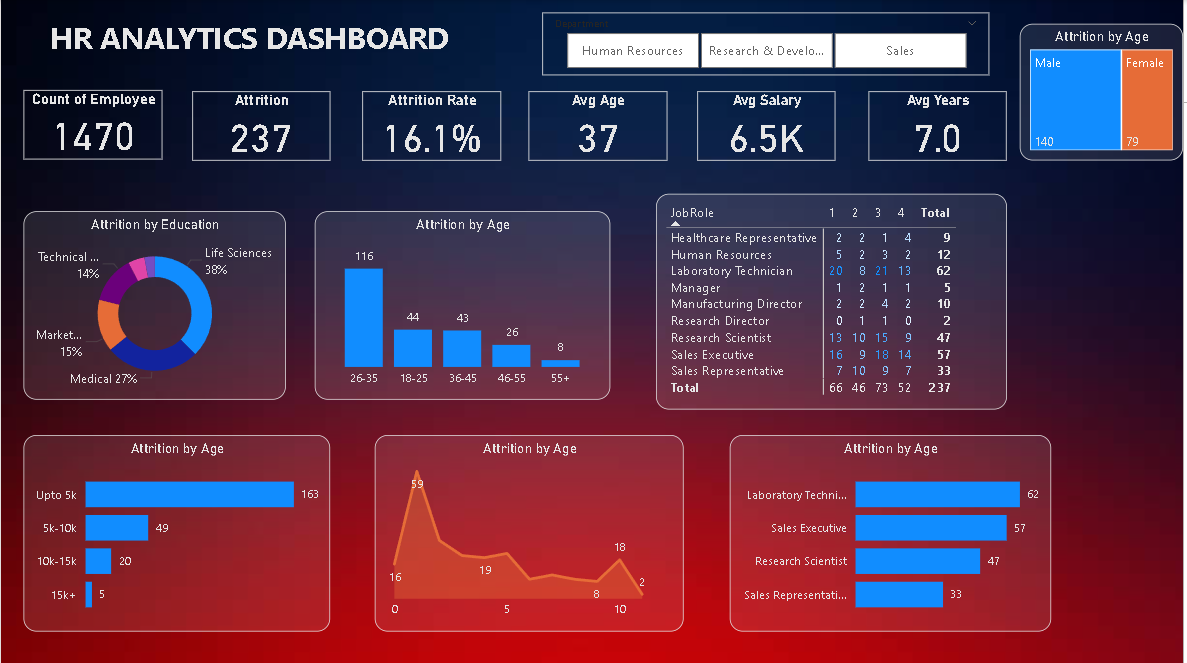

What the dashboard file says about the page in this screenshot:
{"tool":"powerbi","page":{"name":"Page 1","canvas":[1280,720],"ordinal":0},"visuals":[{"type":"card","title":"Count of Employee","fields":{"Values":["CountNonNull(HR_Analytics.EmpID)"]},"box":[24.6,97.1,150.7,75.4],"z":0},{"type":"card","title":"Attrition","fields":{"Values":["Sum(HR_Analytics.AttritionCount)"]},"box":[207.2,98.6,149.3,75.4],"z":1000},{"type":"card","title":"Attrition Rate","fields":{"Values":["HR_Analytics.AttritionRate"]},"box":[391.3,98.6,150.7,75.4],"z":2000},{"type":"card","title":"Avg Age","fields":{"Values":["Avg(HR_Analytics.Age)"]},"box":[571,98.6,150.7,75.4],"z":3000},{"type":"card","title":"Avg Salary","fields":{"Values":["Avg(HR_Analytics.MonthlyIncome)"]},"box":[753.6,98.6,149.3,75.4],"z":4000},{"type":"card","title":"Avg Years","fields":{"Values":["Avg(HR_Analytics.YearsAtCompany)"]},"box":[939.1,98.6,149.3,75.4],"z":5000},{"type":"donutChart","title":"Attrition by Education","fields":{"Category":["HR_Analytics.EducationField"],"Y":["Sum(HR_Analytics.AttritionCount)"]},"box":[24.6,229,284.1,204.3],"z":6000},{"type":"columnChart","title":"Attrition by Age","fields":{"Category":["HR_Analytics.AgeGroup"],"Y":["Sum(HR_Analytics.AttritionCount)"]},"box":[339.1,229,320.3,204.3],"z":7000},{"type":"pivotTable","fields":{"Rows":["HR_Analytics.JobRole"],"Columns":["HR_Analytics.JobSatisfaction"],"Values":["Sum(HR_Analytics.AttritionCount)"]},"box":[708.7,210.1,379.7,233.3],"z":8000},{"type":"barChart","title":"Attrition by Age","fields":{"Category":["HR_Analytics.SalarySlab"],"Y":["Sum(HR_Analytics.AttritionCount)"]},"box":[24.6,471,331.9,213],"z":9000},{"type":"barChart","title":"Attrition by Age","fields":{"Category":["HR_Analytics.JobRole"],"Y":["Sum(HR_Analytics.AttritionCount)"]},"box":[788.4,471,347.8,213],"z":10000},{"type":"areaChart","title":"Attrition by Age","fields":{"Category":["HR_Analytics.YearsAtCompany"],"Y":["Sum(HR_Analytics.AttritionCount)"]},"box":[404.3,471,334.8,213],"z":11000},{"type":"treemap","title":"Attrition by Age","fields":{"Group":["HR_Analytics.Gender"],"Values":["Sum(HR_Analytics.AttritionCount)"]},"box":[1102.9,26.1,176.8,147.8],"z":12000},{"type":"textbox","title":"JHJ","box":[24.6,13,489.9,53.6],"z":13000},{"type":"slicer","fields":{"Values":["HR_Analytics.Department"]},"box":[585.5,13,484.1,68.1],"z":14000}]}

Visuals, with their boxes in screenshot pixels (x1, y1, x2, y2), scaled from the page's 1280x720 canvas onto the 1187x663 screenshot:
"Count of Employee" card: box=[23, 89, 163, 159]
"Attrition" card: box=[192, 91, 331, 160]
"Attrition Rate" card: box=[363, 91, 503, 160]
"Avg Age" card: box=[530, 91, 669, 160]
"Avg Salary" card: box=[699, 91, 837, 160]
"Avg Years" card: box=[871, 91, 1009, 160]
"Attrition by Education" donutChart: box=[23, 211, 286, 399]
"Attrition by Age" columnChart: box=[314, 211, 611, 399]
pivotTable - HR_Analytics.JobRole x HR_Analytics.JobSatisfaction: box=[657, 193, 1009, 408]
"Attrition by Age" barChart: box=[23, 434, 331, 630]
"Attrition by Age" barChart: box=[731, 434, 1054, 630]
"Attrition by Age" areaChart: box=[375, 434, 685, 630]
"Attrition by Age" treemap: box=[1023, 24, 1186, 160]
"JHJ" textbox: box=[23, 12, 477, 61]
slicer - HR_Analytics.Department: box=[543, 12, 992, 75]
